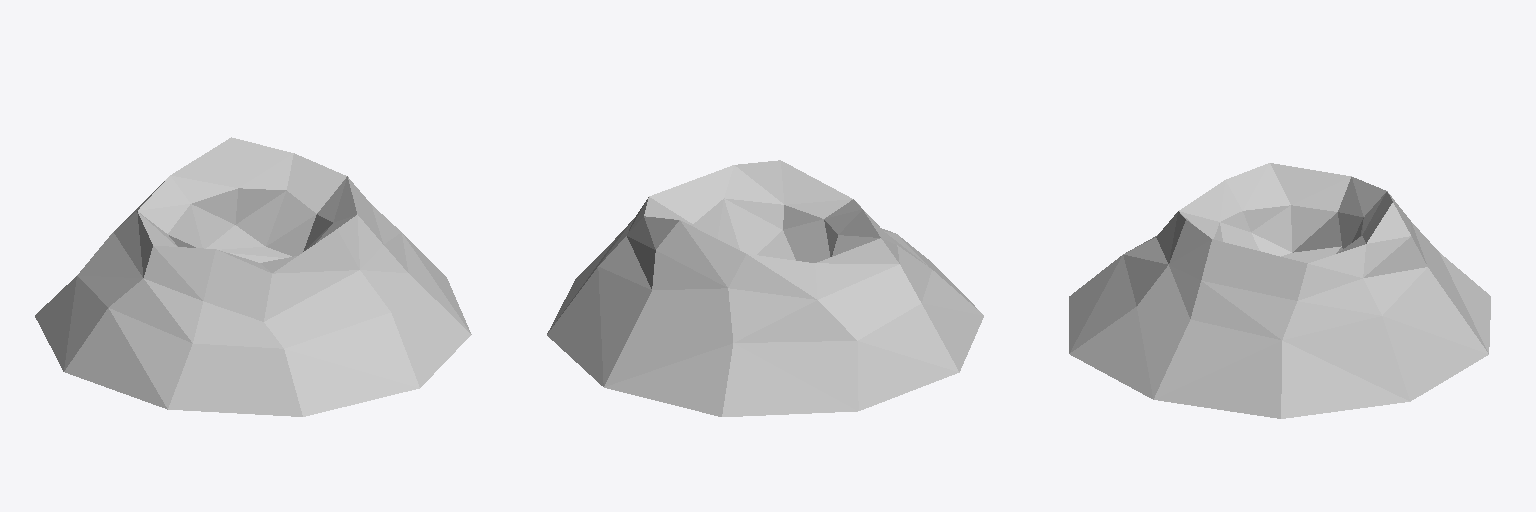
The model's file is anthil.obj.
The picture shows the model from 3 angles: view 1: azimuth 30°, elevation 25°; view 2: azimuth 150°, elevation 25°; view 3: azimuth 270°, elevation 25°; orthographic projection.
Visible parts, largest first — view 1: Torus; view 2: Torus; view 3: Torus.
Part boxes in pixels (bbox=[...]): Torus: bbox=[35, 137, 471, 416]; Torus: bbox=[547, 160, 983, 416]; Torus: bbox=[1069, 163, 1490, 418].
Bounding box in the file's own units: 2.3 × 0.7958 × 2.19.